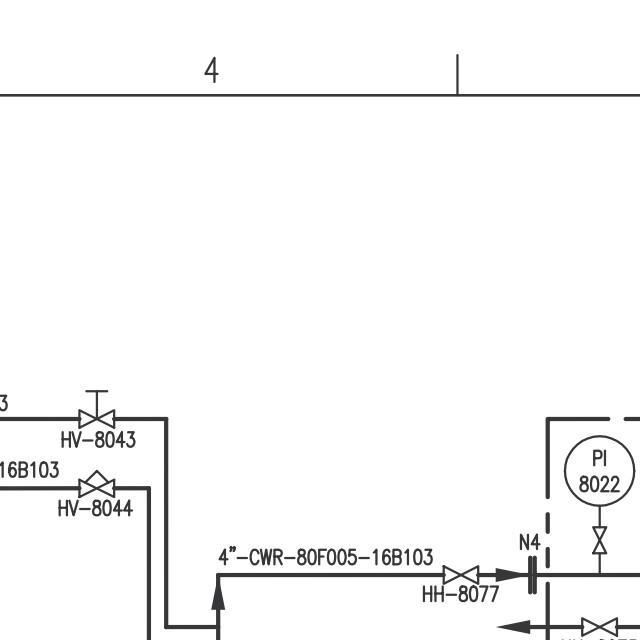GV: (573, 613, 623, 639), (437, 562, 481, 584), (589, 523, 610, 557)
HV: (76, 386, 118, 428)
